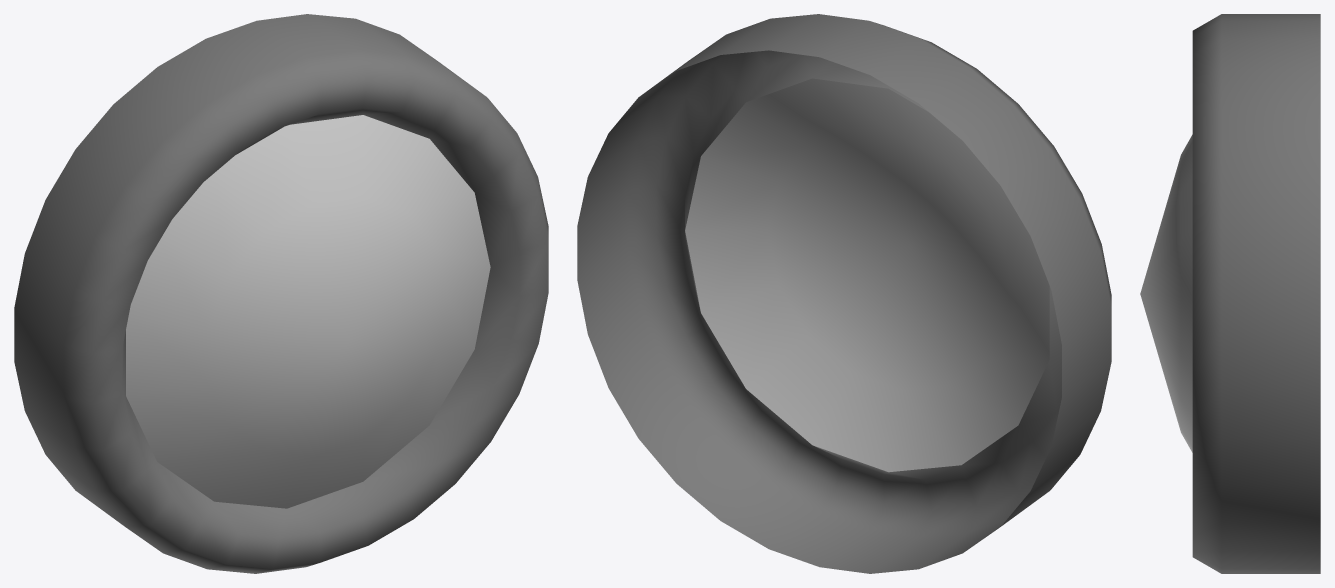
File: TR_lightA.fbx
3 renders of one model, left to right at view 1: azimuth 30°, elevation 25°; view 2: azimuth 150°, elevation 25°; view 3: azimuth 270°, elevation 25°, orthographic.
Visible parts, largest first — view 1: TR_lightA; view 2: TR_lightA; view 3: TR_lightA.
Boxes of the visible parts, x1,y1,x2,y2 form: TR_lightA: [14, 14, 548, 573]; TR_lightA: [577, 14, 1111, 573]; TR_lightA: [1140, 14, 1320, 573].
Size of the model in its own units: 13.98 by 14.06 by 4.53.
